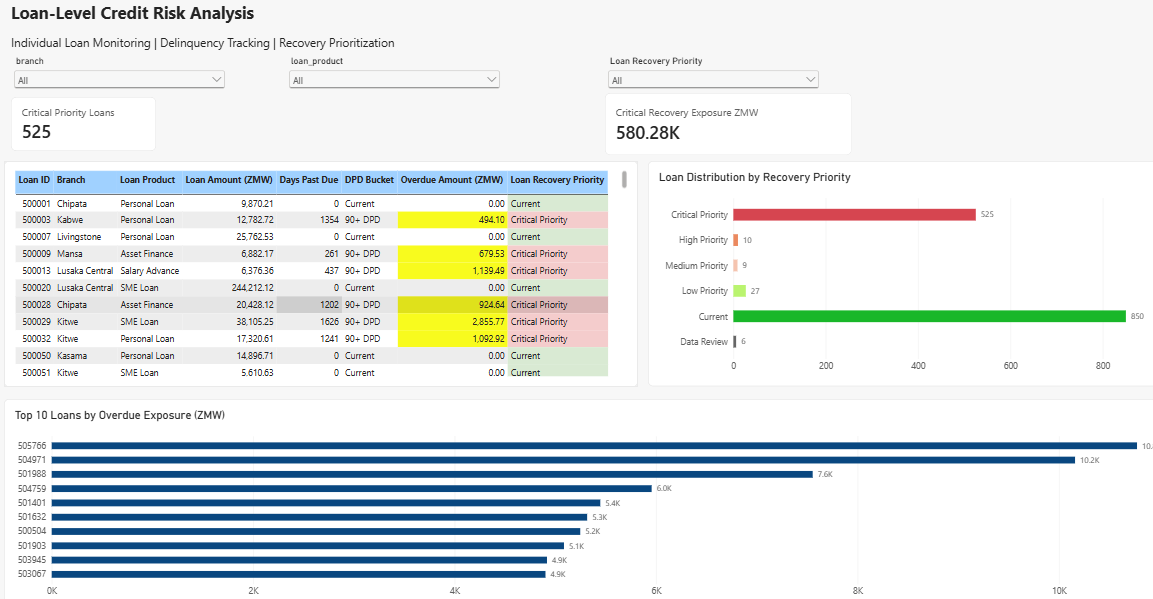

Layout of this report page (visuals, bound fields, positions):
{"tool":"powerbi","page":{"name":"Loan-Level Risk Analysis.","canvas":[1920,1080],"ordinal":3},"visuals":[{"type":"textbox","box":[24.8,59.8,579.8,49.7],"z":0},{"type":"textbox","box":[24.8,112.3,662.6,46.7],"z":1},{"type":"tableEx","fields":{"Values":["FactDelinquencySnapshot.loan_id","FactDelinquencySnapshot.branch","FactDelinquencySnapshot.loan_product","Sum(FactDelinquencySnapshot.loan_amount_zmw)","Sum(FactDelinquencySnapshot.days_past_due)","FactDelinquencySnapshot.dpd_bucket","Sum(FactDelinquencySnapshot.overdue_amount_zmw)","FactDelinquencySnapshot.Loan Recovery Priority"]},"box":[14.6,315.1,1009.6,360.4],"z":2},{"type":"clusteredBarChart","title":"Top 10 Loans by Overdue Exposure (ZMW)","fields":{"Category":["FactDelinquencySnapshot.loan_id"],"Y":["Sum(FactDelinquencySnapshot.overdue_amount_zmw)"]},"box":[14.6,694.5,1873.3,338.5],"z":3},{"type":"cardVisual","fields":{"Data":["FactDelinquencySnapshot.Critical Priority Loans"]},"box":[24.8,213,232,86.1],"z":4},{"type":"cardVisual","fields":{"Data":["FactDelinquencySnapshot.Critical Recovery Exposure ZMW"]},"box":[971.7,207.2,393.9,99.2],"z":5},{"type":"clusteredBarChart","title":"Loan Distribution by Recovery Priority","fields":{"Category":["DimRecoveryPriority.Loan Recovery Priority"],"Y":["DimBranch.Total Snapshot Loans"]},"box":[1040.2,315.1,827.2,358.9],"z":6},{"type":"slicer","fields":{"Values":["DimBranch.branch"]},"box":[24.8,148.8,345.8,132.8],"z":7},{"type":"slicer","fields":{"Values":["FactLoans.loan_product"]},"box":[464,148.8,345.8,132.8],"z":8},{"type":"slicer","fields":{"Values":["DimRecoveryPriority.Loan Recovery Priority"]},"box":[971.7,148.8,345.8,132.8],"z":9}]}

Visuals, with their boxes on the page's 1920x1080 design canvas (x1, y1, x2, y2). These are canvas units, not pixel positions in the 1153x599 screenshot, which may show the page scaled, cropped or inside an application window:
textbox: [25,60,605,110]
textbox: [25,112,687,159]
tableEx - FactDelinquencySnapshot.loan_id x FactDelinquencySnapshot.branch: [15,315,1024,676]
"Top 10 Loans by Overdue Exposure (ZMW)" clusteredBarChart: [15,694,1888,1033]
cardVisual - FactDelinquencySnapshot.Critical Priority Loans: [25,213,257,299]
cardVisual - FactDelinquencySnapshot.Critical Recovery Exposure ZMW: [972,207,1366,306]
"Loan Distribution by Recovery Priority" clusteredBarChart: [1040,315,1867,674]
slicer - DimBranch.branch: [25,149,371,282]
slicer - FactLoans.loan_product: [464,149,810,282]
slicer - DimRecoveryPriority.Loan Recovery Priority: [972,149,1318,282]
